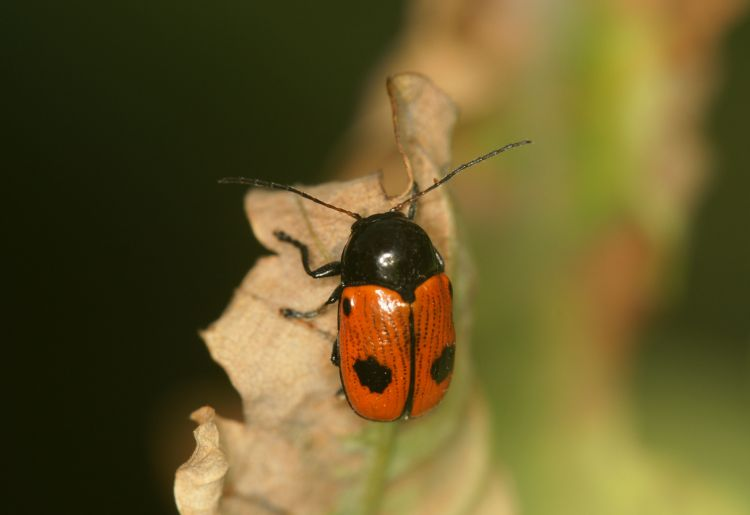Cryptocephalus_bipunctatus: (203, 134, 537, 428)
